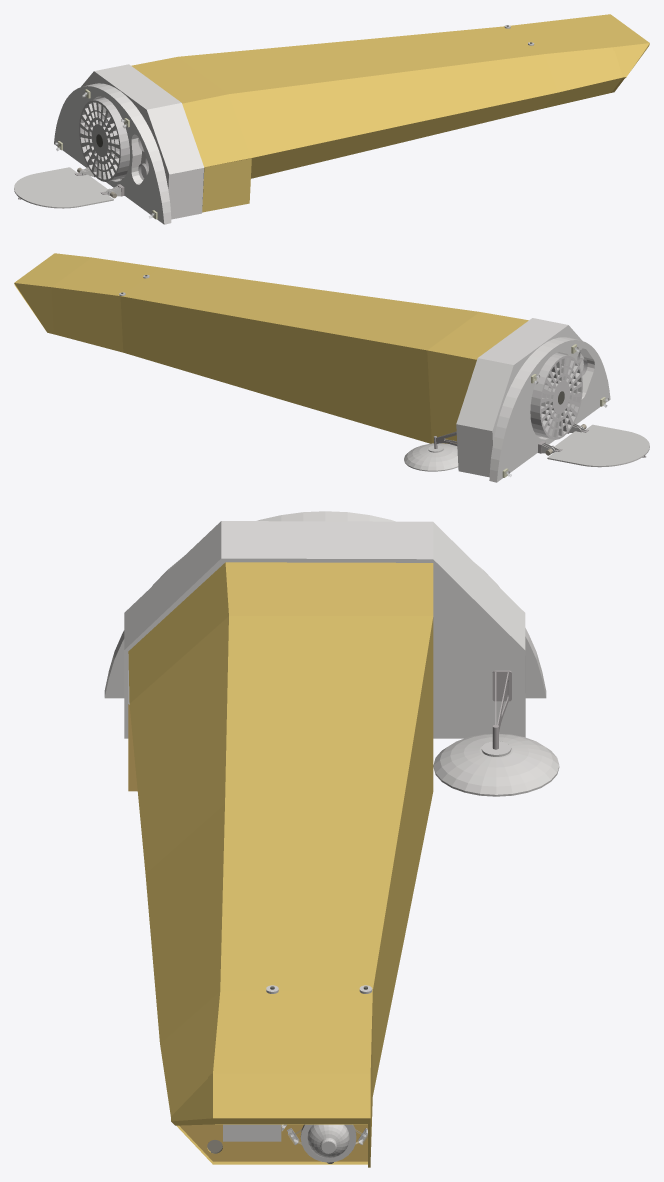
The model's file is constellation-x.glb.
3 views of the same model, one above another, from view 1: azimuth 30°, elevation 25°; view 2: azimuth 150°, elevation 25°; view 3: azimuth 270°, elevation 25° (orthographic). The views are drawn at different scales.
Visible parts, largest first — view 1: mesh_0; view 2: mesh_0; view 3: mesh_0.
Part boxes in pixels (box(x1,y1,x2,y2)): mesh_0: box(14, 14, 649, 224); mesh_0: box(14, 253, 649, 482); mesh_0: box(104, 511, 559, 1167).
Bounding box in the file's own units: 500 × 81.76 × 163.
2 materials, 2 textured.
